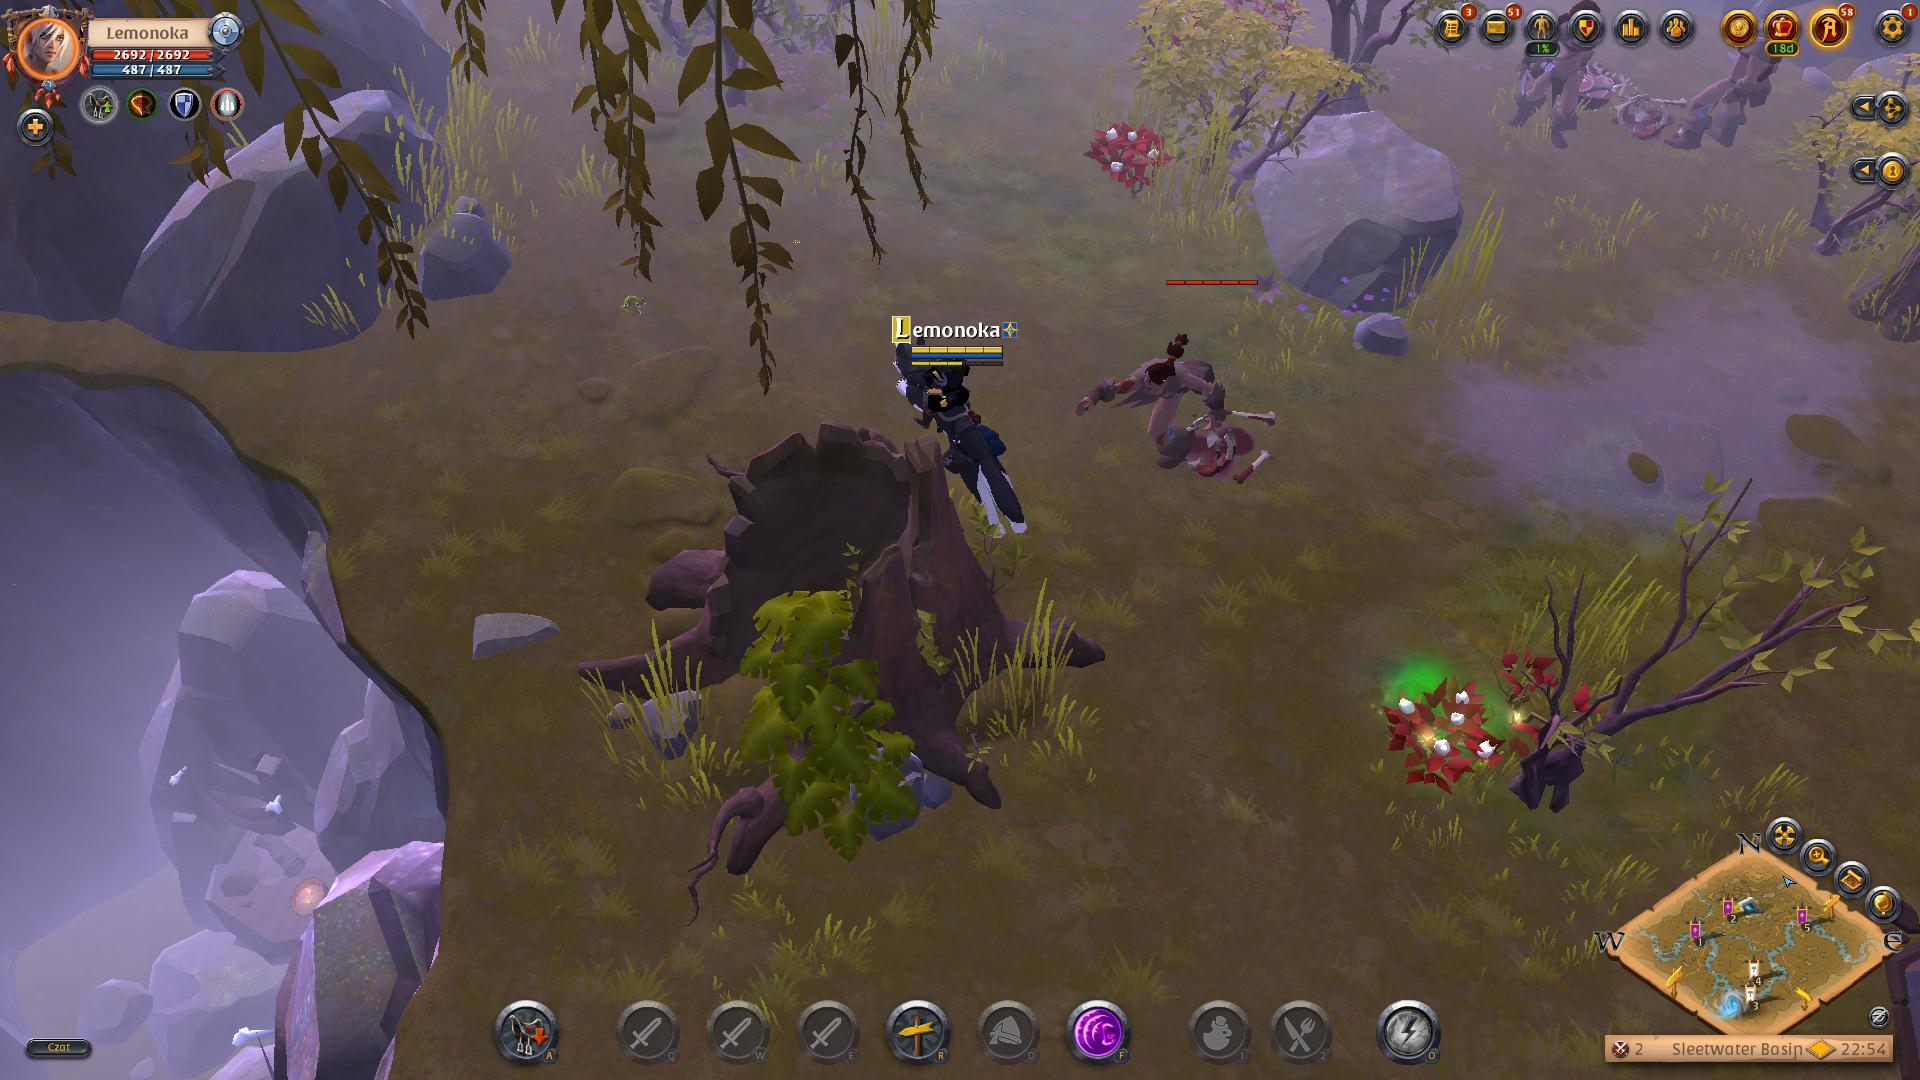fiber tier 5: (1385, 675, 1507, 796), (1085, 121, 1168, 196)
